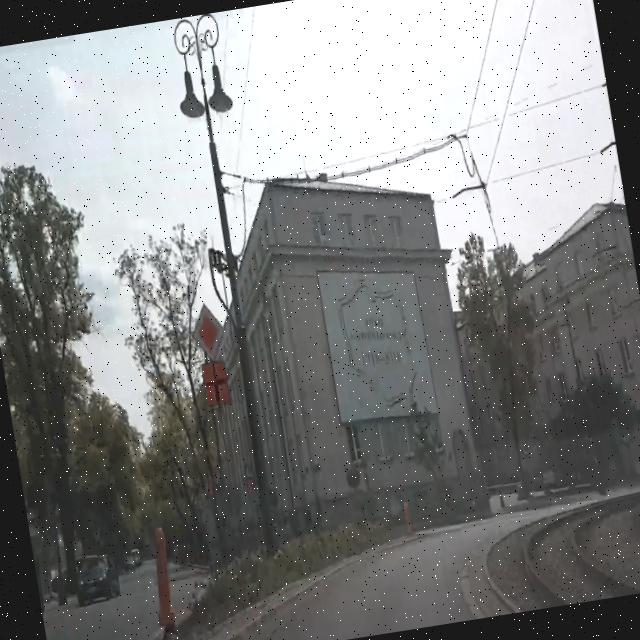Droga z pierwszenstwem: (186, 298, 228, 364)
